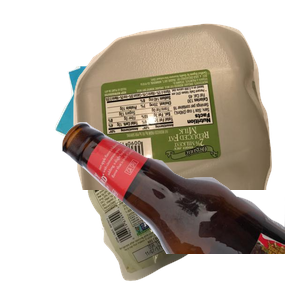glass: (60, 120, 300, 300)
paper: (52, 49, 209, 198)
plastic: (71, 21, 300, 201)
trash: (84, 126, 291, 300)
